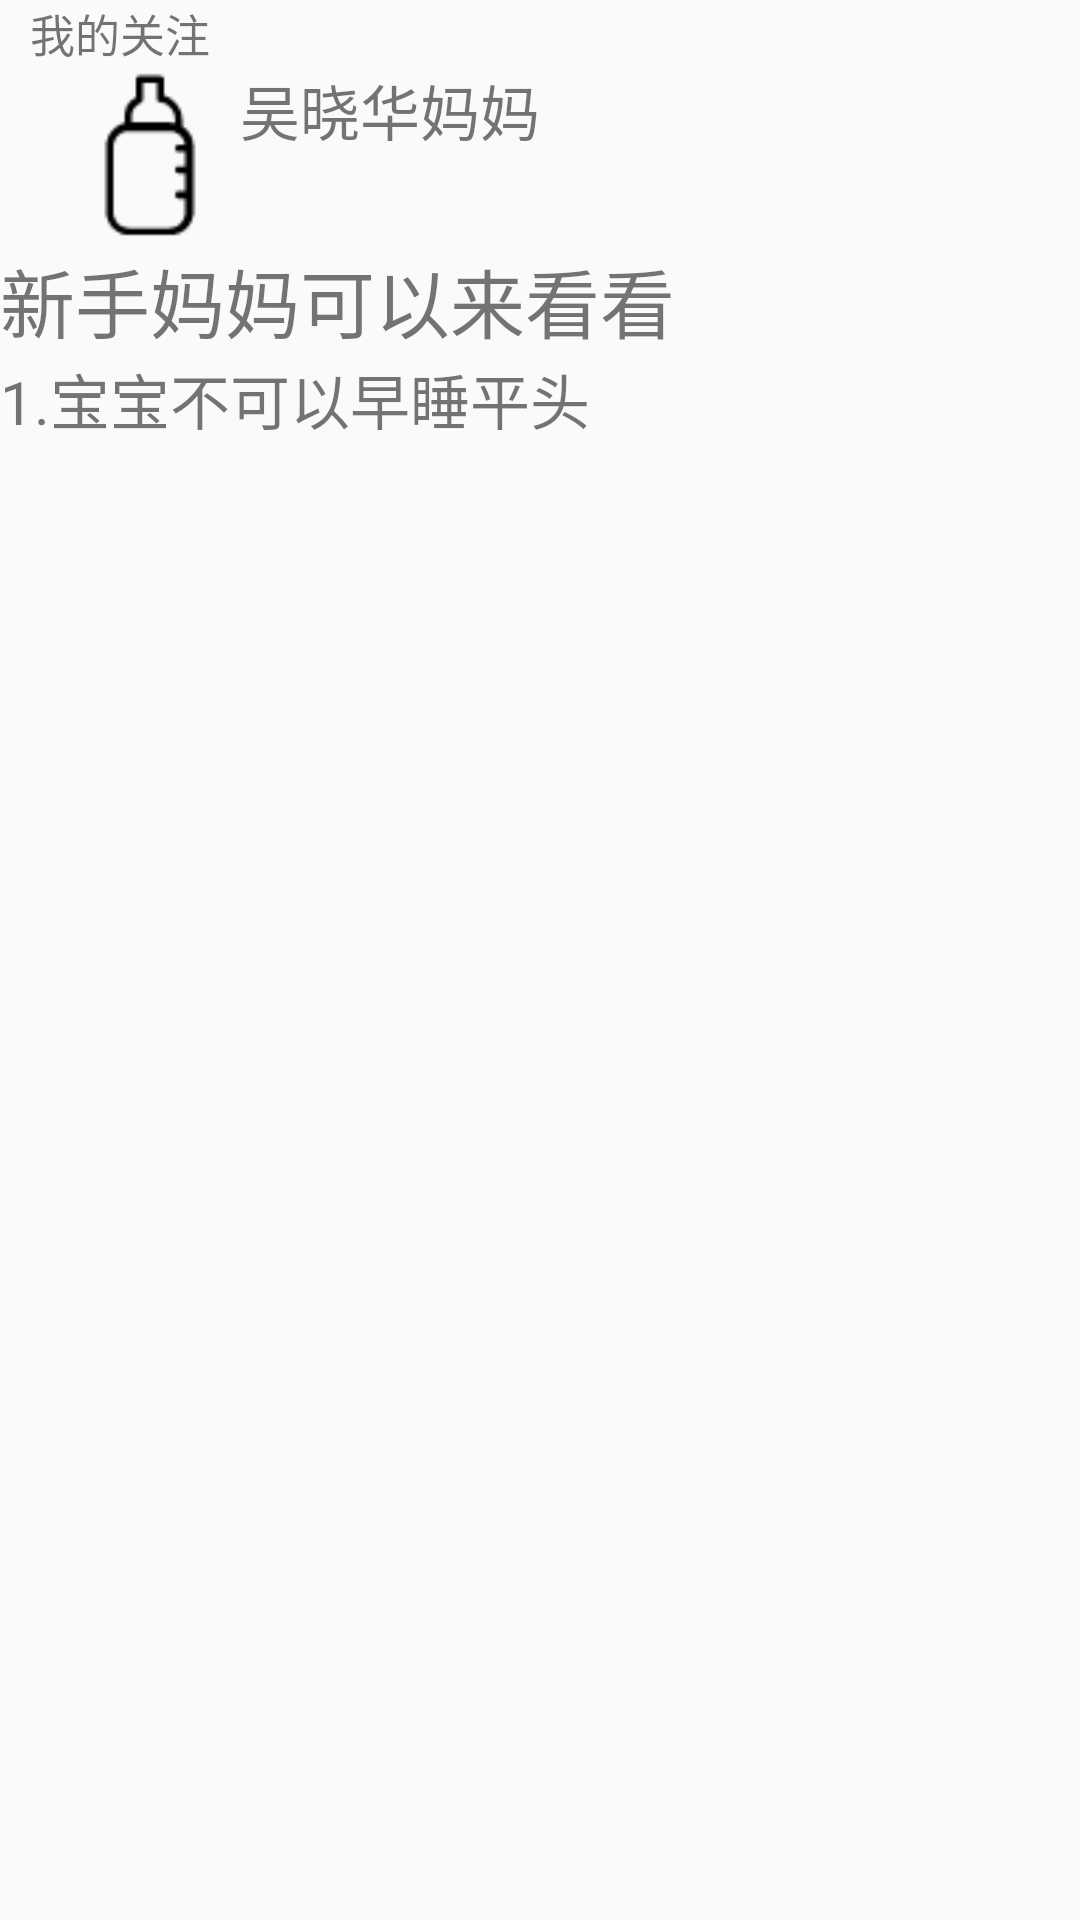

Named icons in this screenshot (1080px×1920px) and their bounding boxes, [x1, y1, x2, y2]:
baby: [104, 74, 196, 236]
